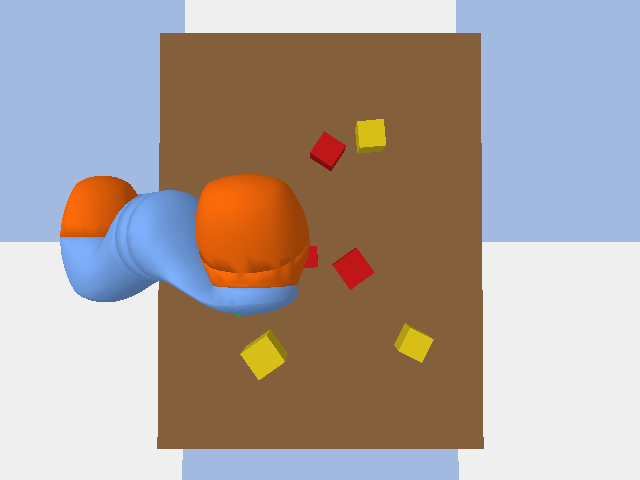green_obj: (235, 314, 241, 317)
red_obj: (332, 248, 374, 289), (310, 131, 345, 170), (304, 246, 317, 267)
yellow_obj: (240, 329, 287, 379), (394, 323, 433, 362), (355, 119, 385, 153)
